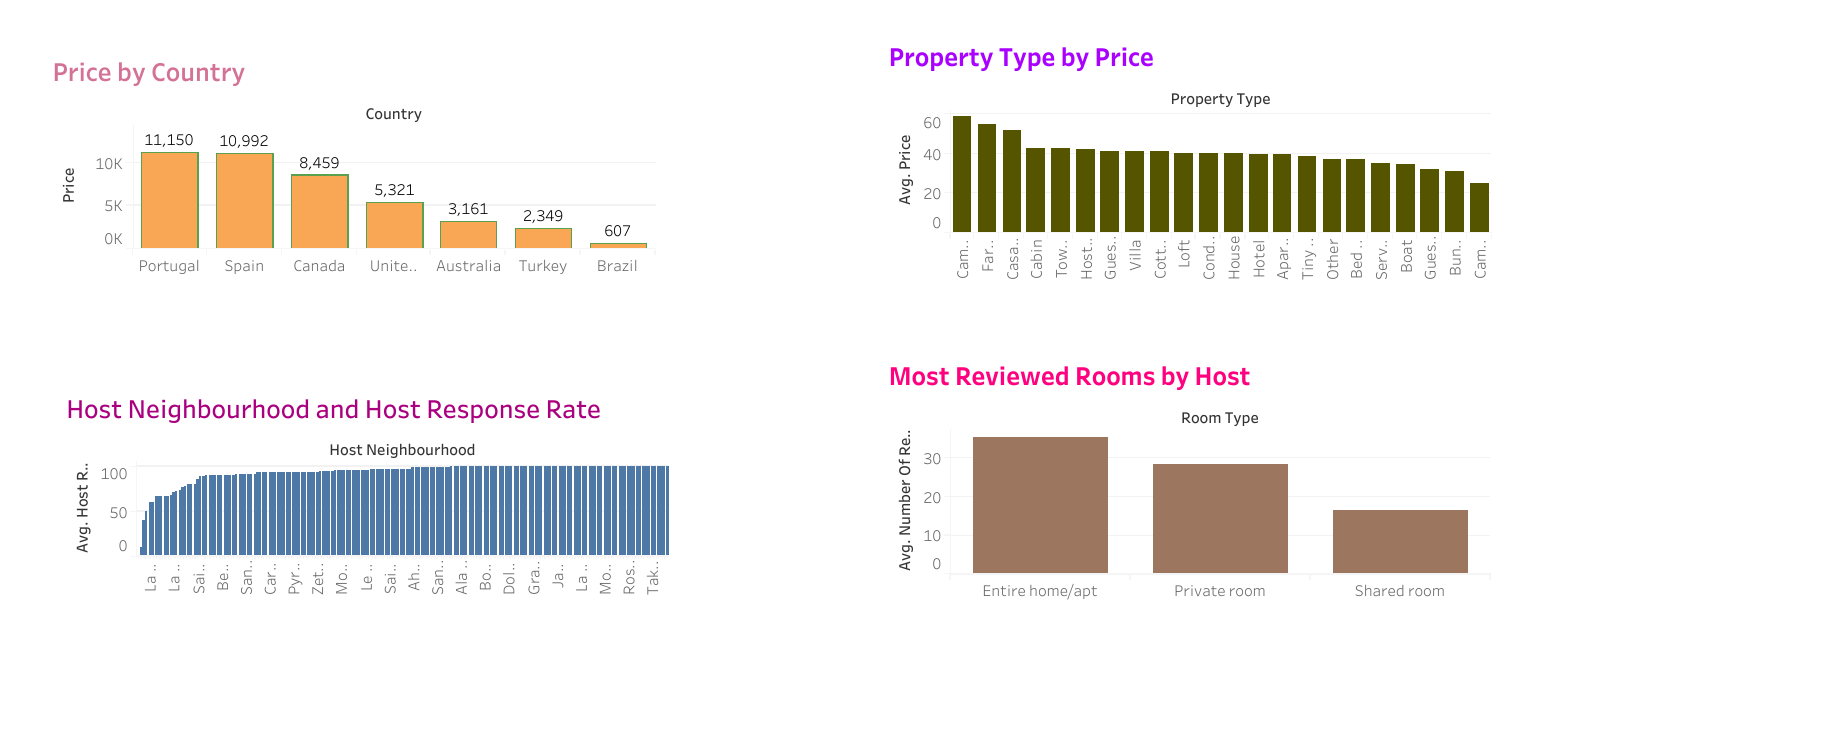

The dashboard page shown, as its layout file describes it:
{"tool":"tableau","page":{"name":"Dashboard 1","canvas":[1000,1000],"units":"permille","ordinal":0},"visuals":[{"type":"worksheet","title":"Property type by Price","mark":"Automatic","rows":["price"],"cols":["property_type"],"box":[485.2,41.2,333.1,333.3]},{"type":"worksheet","title":"Price by Country","mark":"Automatic","rows":["price"],"cols":["country"],"box":[25.9,61.2,333.1,333.3]},{"type":"worksheet","title":"Most Reviewed Rooms","mark":"Automatic","rows":["number_of_reviews"],"cols":["room_type"],"box":[484.6,464.4,333.1,333.3]},{"type":"worksheet","title":"HND & HRR","mark":"Automatic","rows":["host_response_rate"],"cols":["host_neighbourhood"],"box":[33.8,506.9,333.1,284.6]}]}

Visuals, with their boxes on the dashboard's canvas, which has no fixed pixel size, in thousandths of its width and height (x1, y1, x2, y2). These are canvas units, not pixel positions in the 1821x753 screenshot, which may show the page scaled, cropped or inside an application window:
"Property type by Price" worksheet: BBox(485, 41, 818, 374)
"Price by Country" worksheet: BBox(26, 61, 359, 394)
"Most Reviewed Rooms" worksheet: BBox(485, 464, 818, 798)
"HND & HRR" worksheet: BBox(34, 507, 367, 792)
